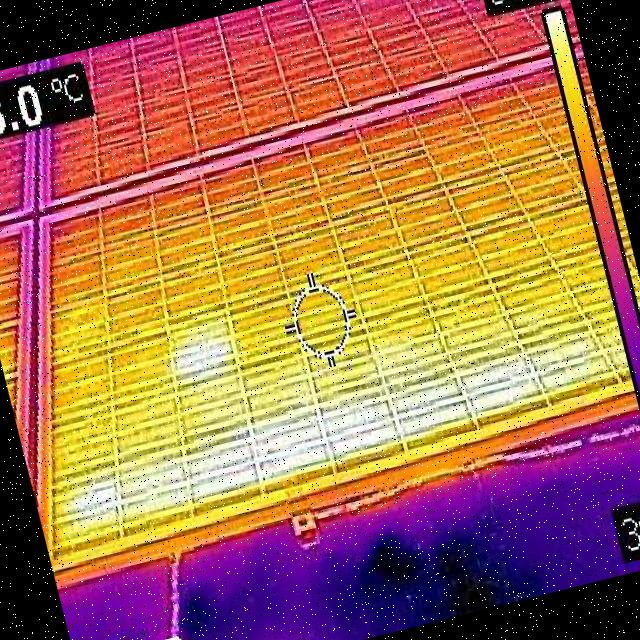Hotspot: (66, 348, 578, 540), (166, 330, 233, 391)
